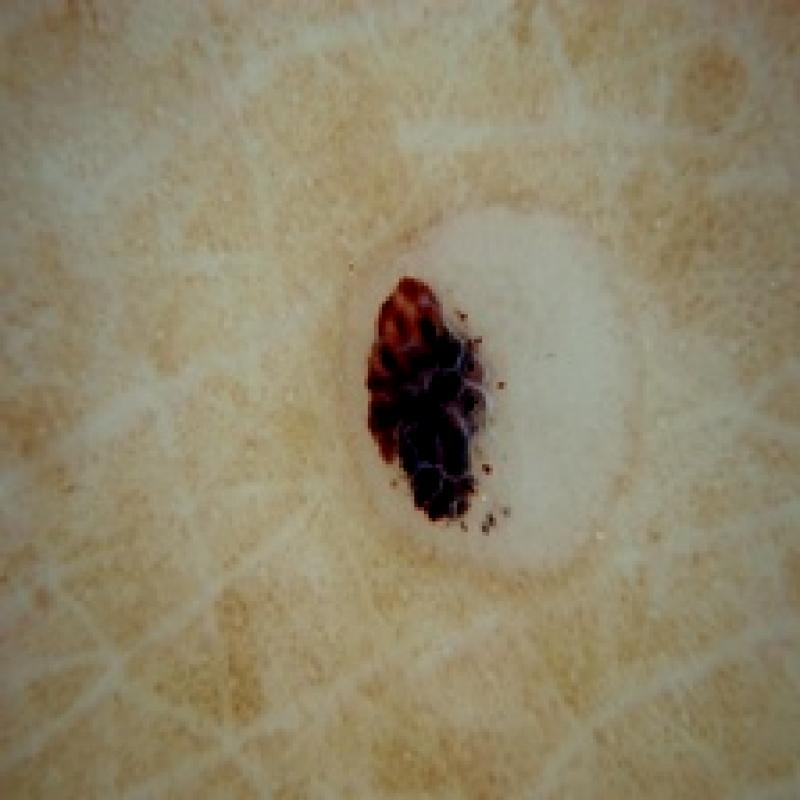malignant: (272, 169, 698, 590)
